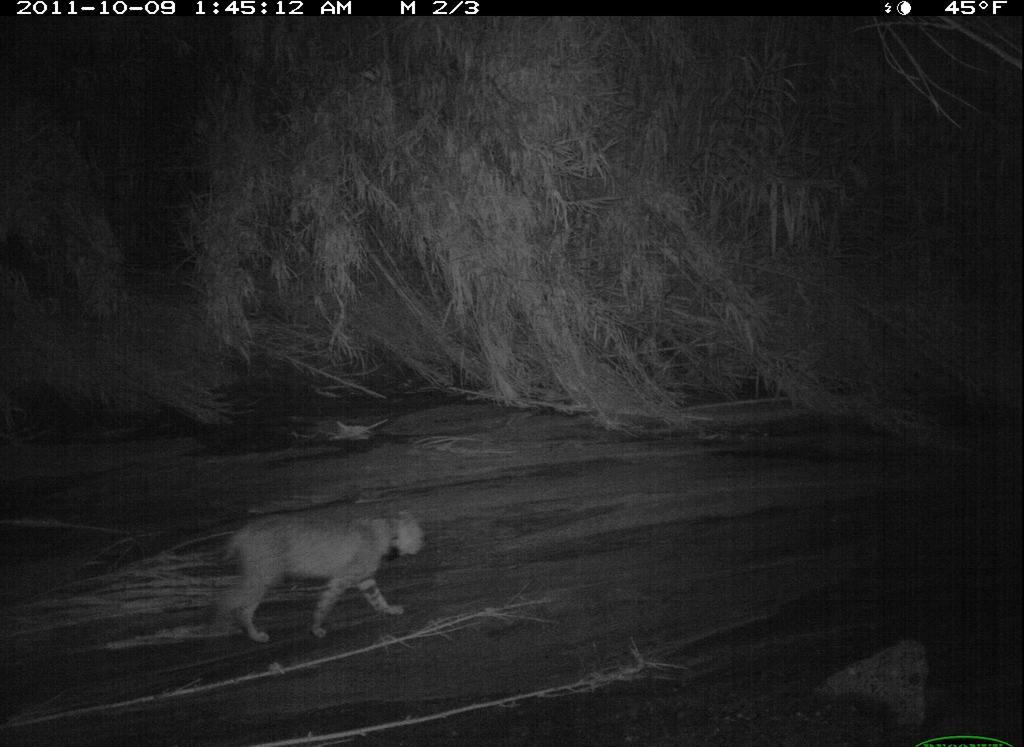bobcat: (199, 486, 442, 656)
